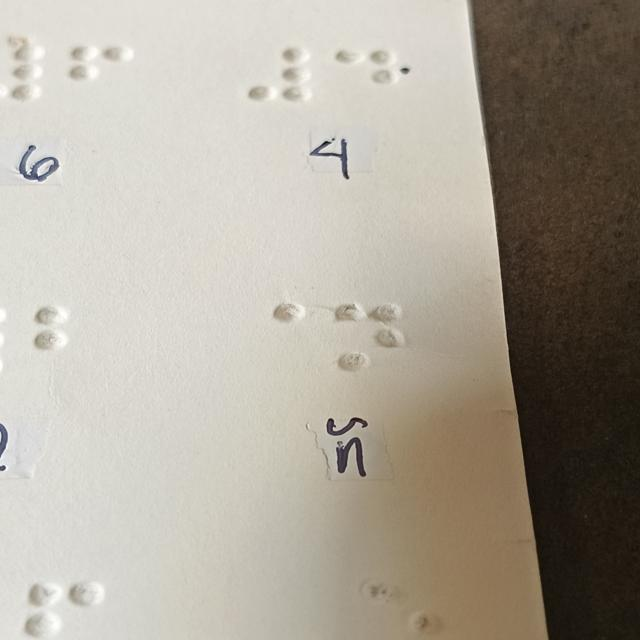digit_4: (335, 49, 396, 105)
dot_4: (238, 299, 304, 368)
letter_n: (336, 301, 402, 370)
number_sign: (248, 47, 315, 103)
